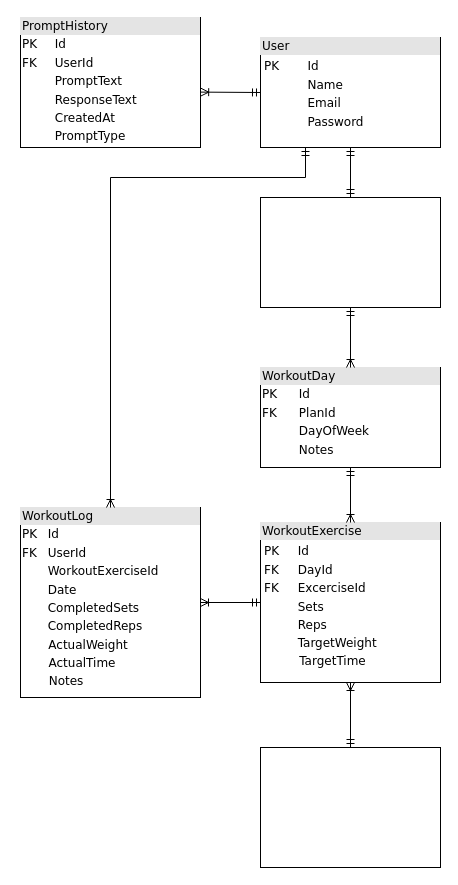
This 458x885 diagram has some shape labels left out. Each missing label, with the centre of its shape:
"Exercise PK Id FK1 Name Description Equipment MuscleGroup" goes at point (350, 807).
"WorkoutPlan PK Id FK UserId Name Goal" goes at point (350, 252).
